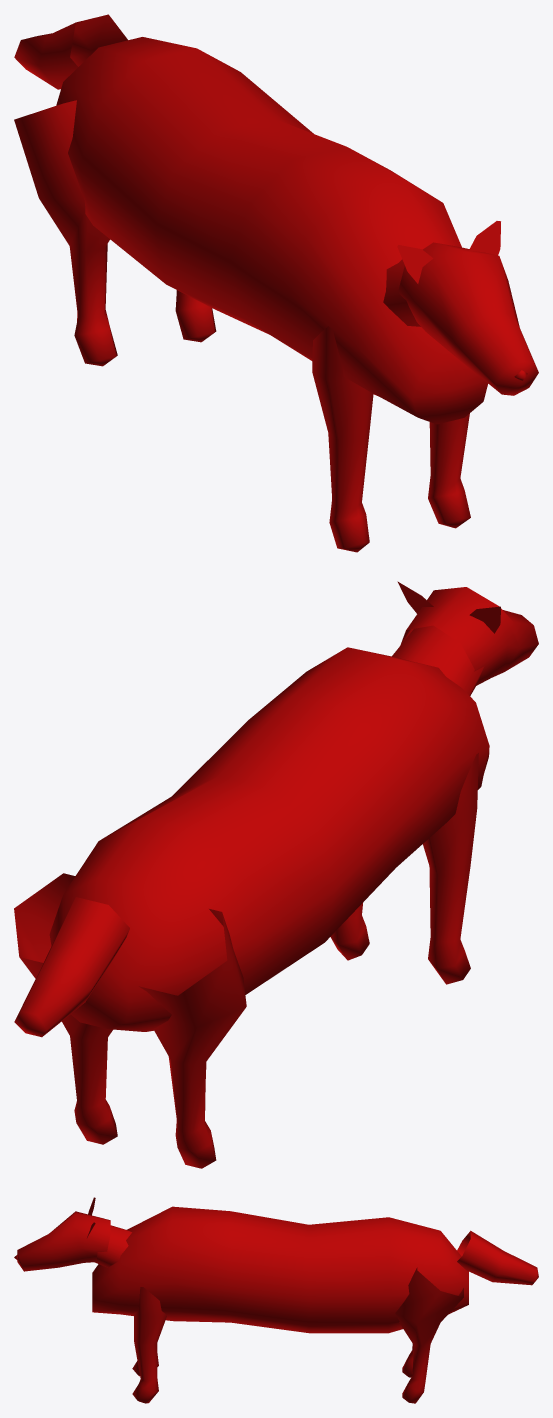
File: wolverine.glb
3 views of the same model, one above another, from view 1: azimuth 30°, elevation 25°; view 2: azimuth 150°, elevation 25°; view 3: azimuth 270°, elevation 25° (orthographic). The views are drawn at different scales.
Parts seen in each view (by area): view 1: body, head, leg_lh, leg_lf, tail, leg_rf, leg_rh; view 2: body, leg_lh, head, tail, leg_rh, leg_lf, leg_rf; view 3: body, head, leg_rh, leg_rf, tail.
Part boxes in pixels (x1=…): body: x1=56, y1=37, x2=488, y2=424; head: x1=383, y1=221, x2=538, y2=395; leg_lh: x1=14, y1=100, x2=117, y2=366; leg_lf: x1=312, y1=326, x2=373, y2=552; tail: x1=14, y1=14, x2=127, y2=89; leg_rf: x1=428, y1=413, x2=470, y2=528; leg_rh: x1=175, y1=290, x2=216, y2=342; body: x1=49, y1=647, x2=489, y2=1031; leg_lh: x1=138, y1=909, x2=246, y2=1168; head: x1=392, y1=581, x2=538, y2=695; tail: x1=14, y1=897, x2=129, y2=1037; leg_rh: x1=14, y1=873, x2=117, y2=1144; leg_lf: x1=423, y1=753, x2=478, y2=984; leg_rf: x1=330, y1=902, x2=369, y2=960; body: x1=92, y1=1206, x2=468, y2=1333; head: x1=14, y1=1197, x2=131, y2=1271; leg_rh: x1=395, y1=1267, x2=463, y2=1403; leg_rf: x1=132, y1=1287, x2=166, y2=1403; tail: x1=457, y1=1230, x2=538, y2=1285.
Bounding box in the file's own units: 0.3047 × 0.4648 × 1.23.
